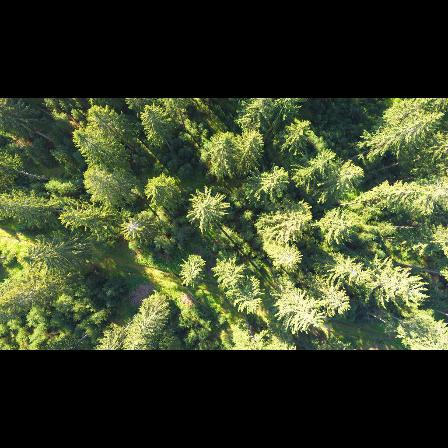Sick: (120, 217, 148, 241)
